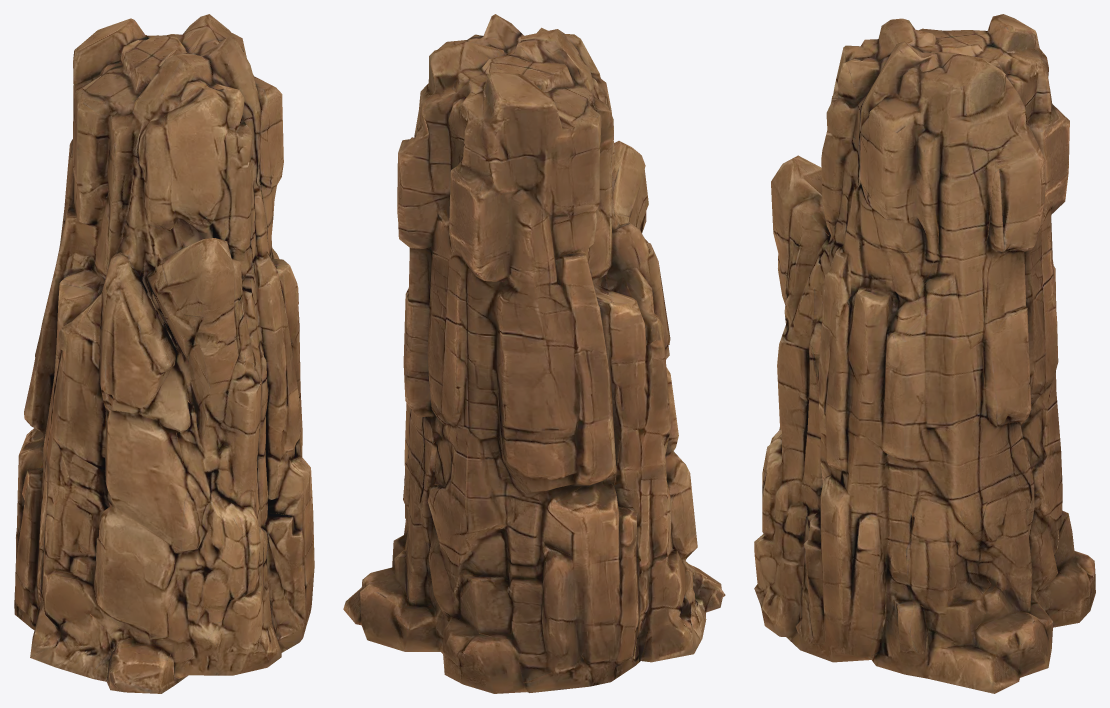
Rendered from pillar-stone.glb.
The picture shows the model from 3 angles, left to right: view 1: azimuth 30°, elevation 25°; view 2: azimuth 150°, elevation 25°; view 3: azimuth 270°, elevation 25°; orthographic projection. The views are drawn at different scales.
Parts seen in each view (by area): view 1: Mesh1.0; view 2: Mesh1.0; view 3: Mesh1.0.
Boxes of the visible parts, x1,y1,x2,y2 form: Mesh1.0: (14, 14, 314, 693); Mesh1.0: (343, 14, 725, 693); Mesh1.0: (754, 14, 1095, 693).
Bounding box in the file's own units: 1.05 × 1.91 × 0.9867.
Materials: 1 (1 with a texture image).
